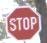Stop sign: (0, 0, 46, 42)
